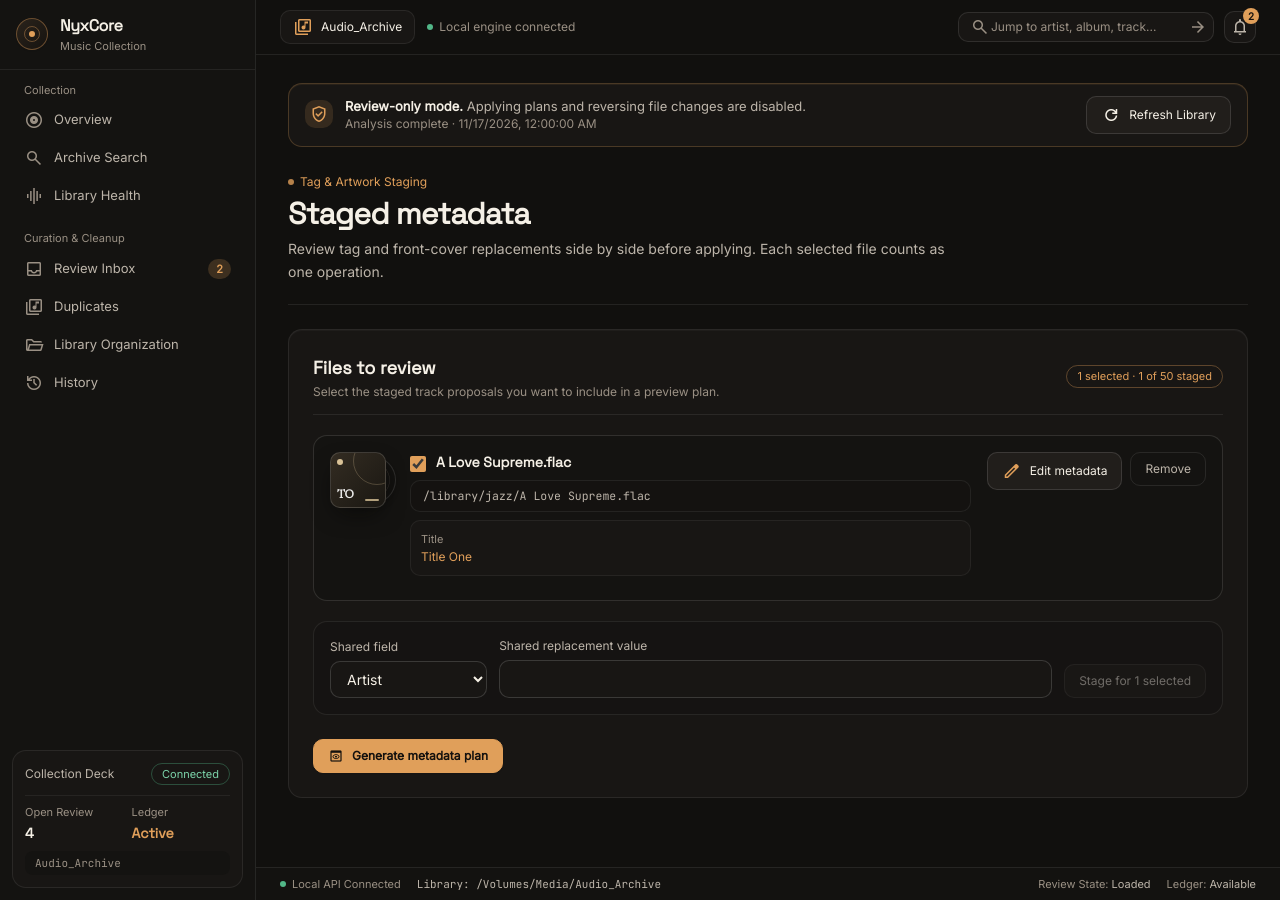
it: metadata repair › shows a preview-only boundary and marks its persisted drafts stale after library refresh
This screenshot has width=1280, height=900.
Click the button "Generate metadata plan". click: (408, 756)
box: [313,739,503,773]
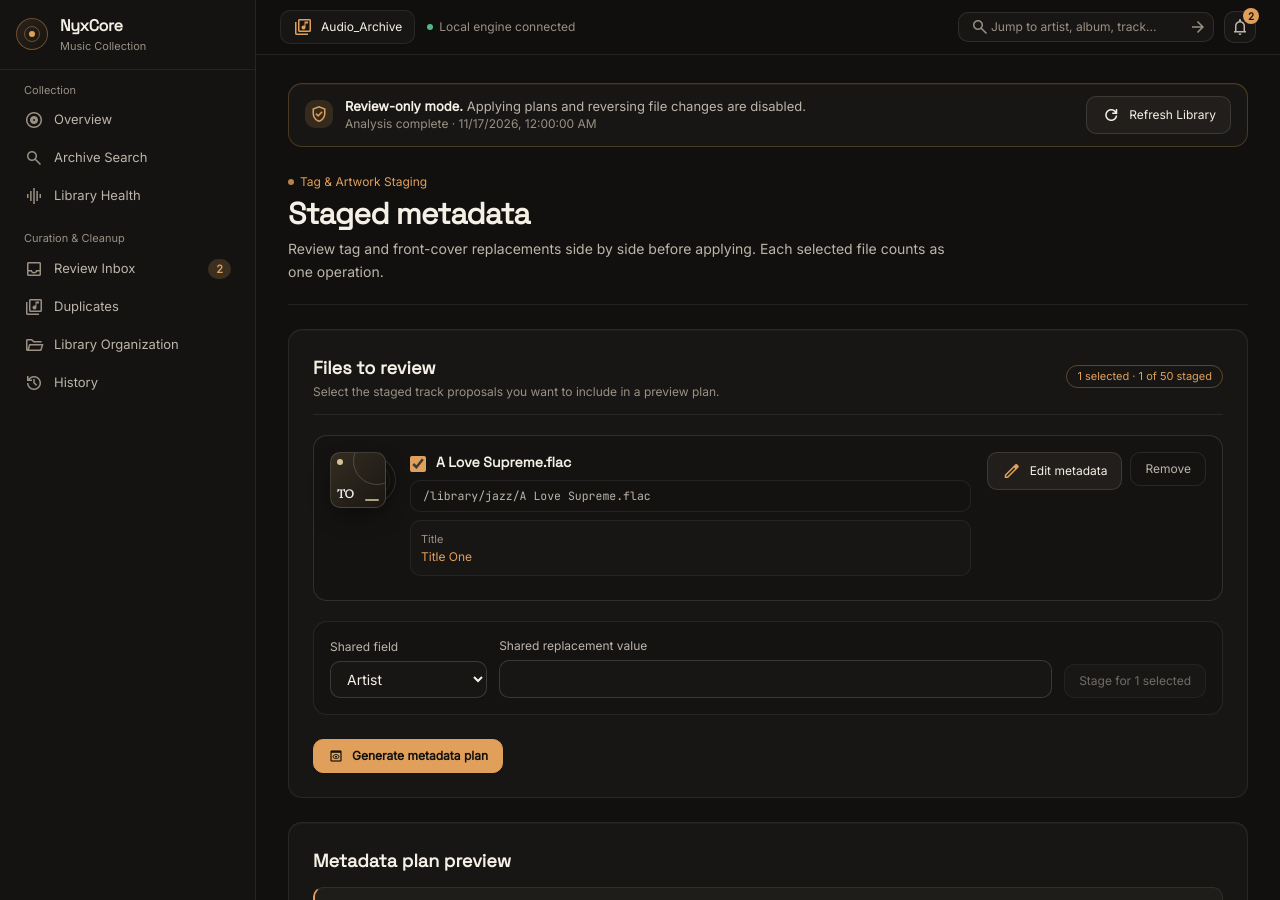
Click the button "Refresh Library". click: (1159, 115)
box: [1086,96,1231,134]
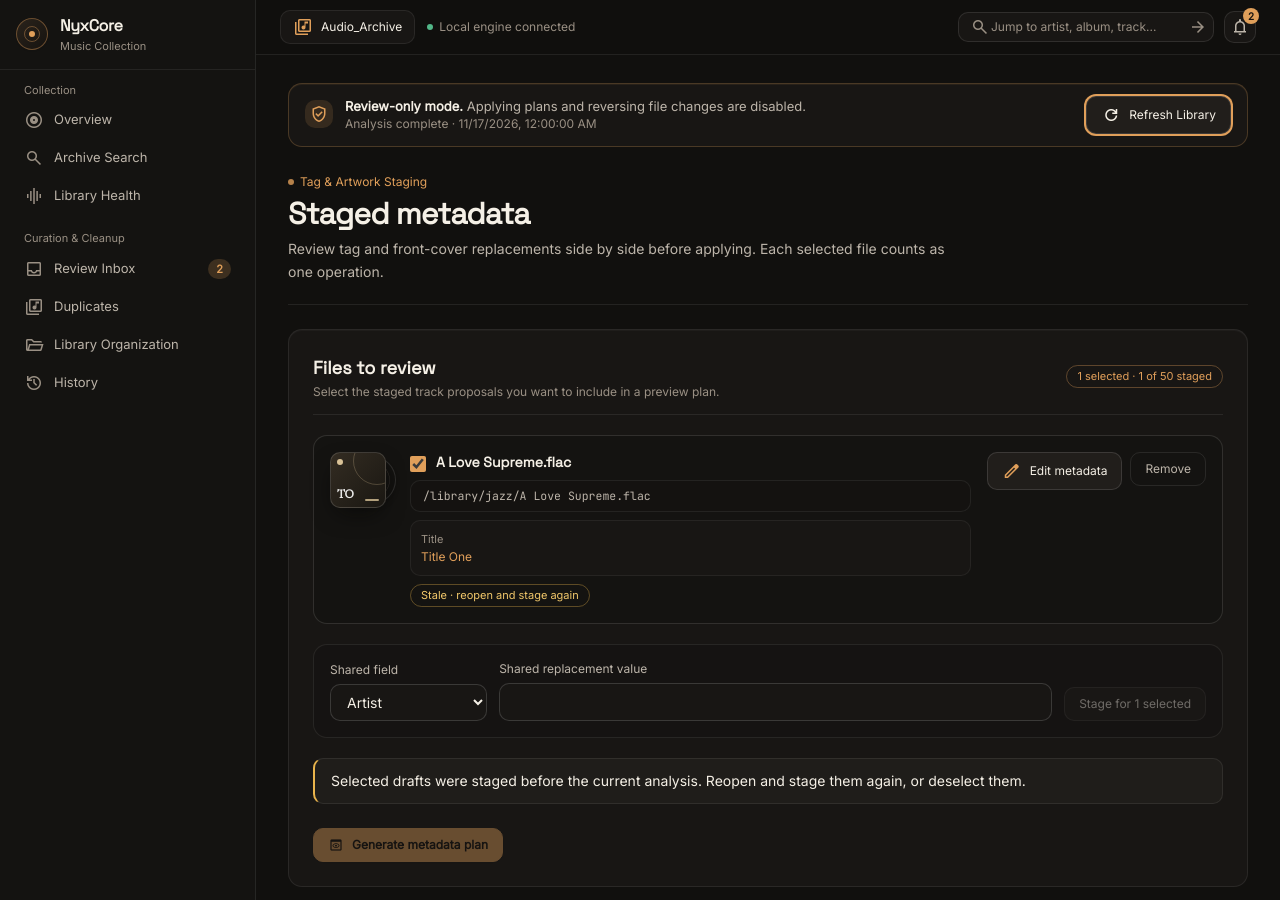
Now the text "Selected drafts were staged before the current analysis" is shown, box [331,772,1026,789]
Now the button "Generate metadata plan" is disabled, box [313,828,503,862]
